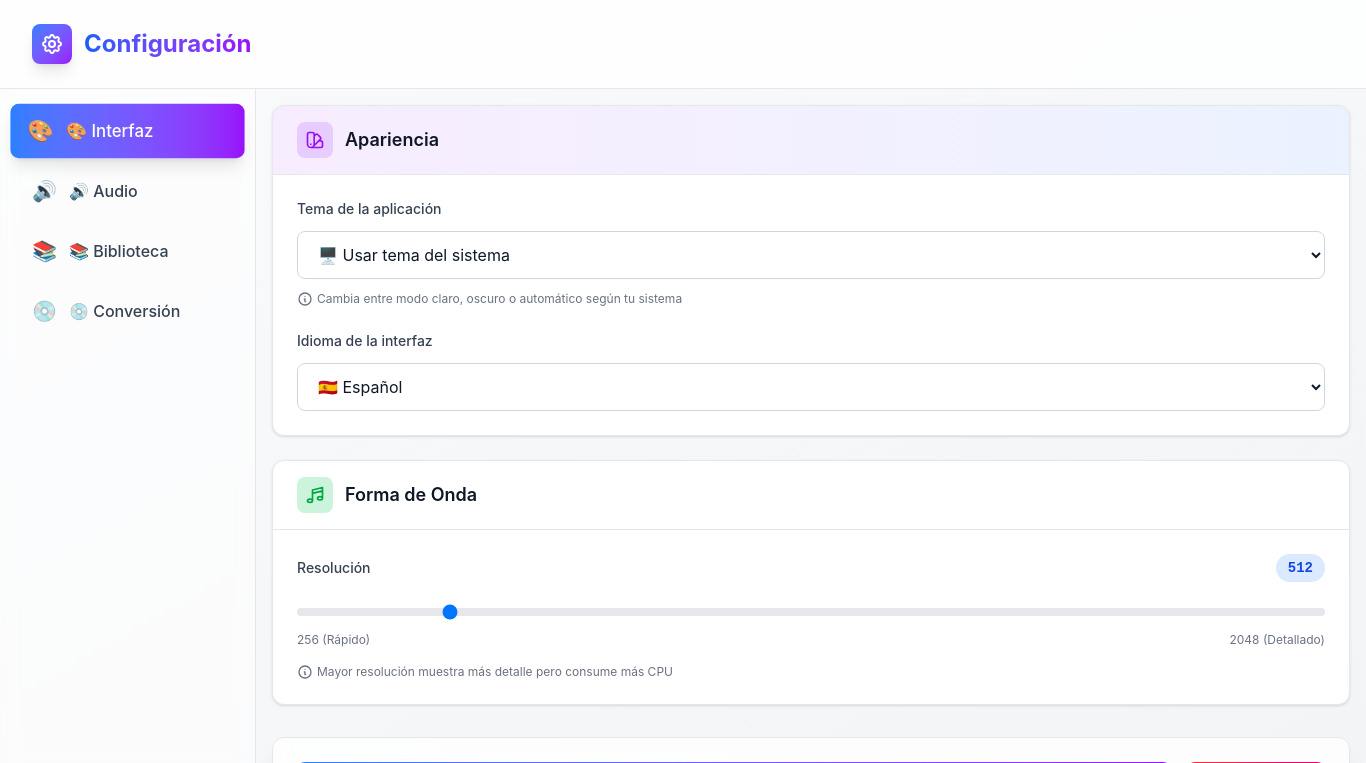
it: Settings › Navegación entre pestañas › debería cambiar a pestaña Audio al hacer click
Click the text "🔊 Audio": (103, 191) [69,179,138,203]
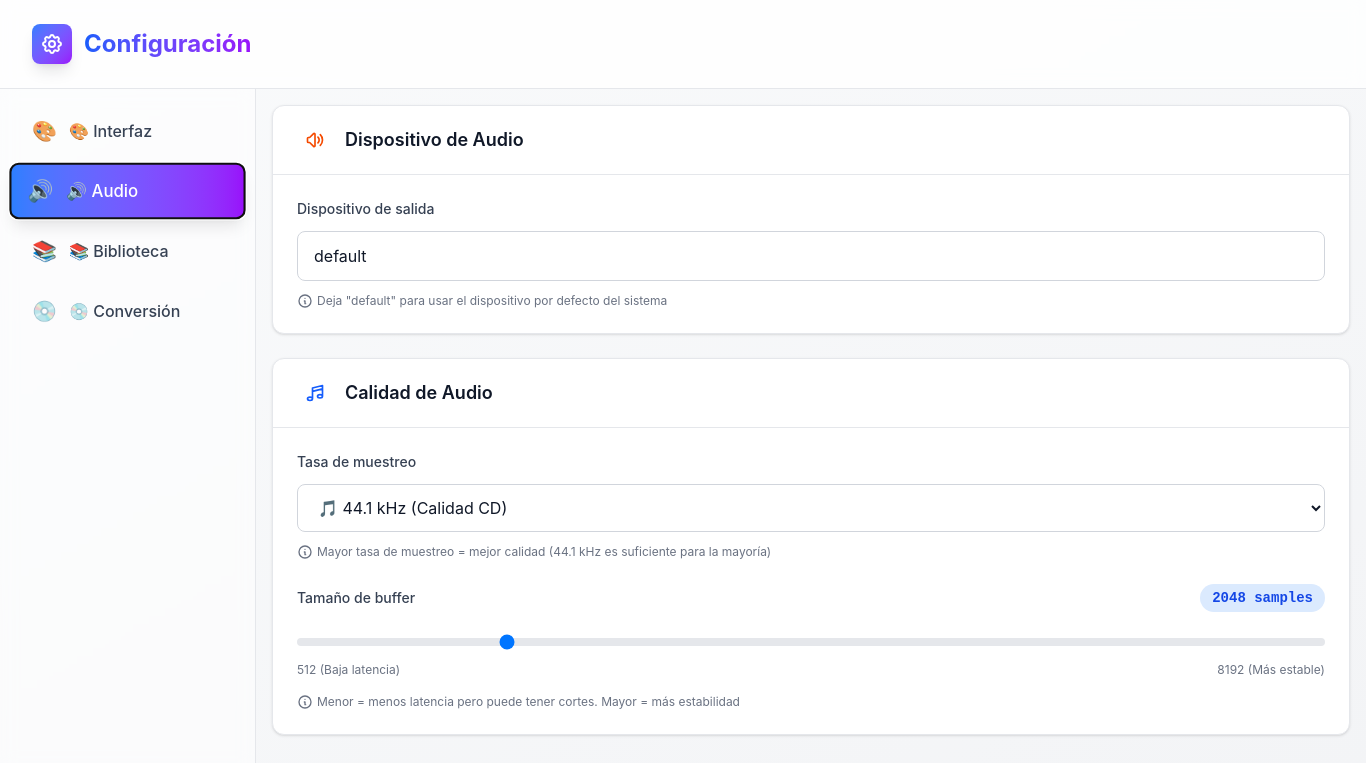
Now the heading "Dispositivo de Audio" is shown, box [345,126,524,154]
